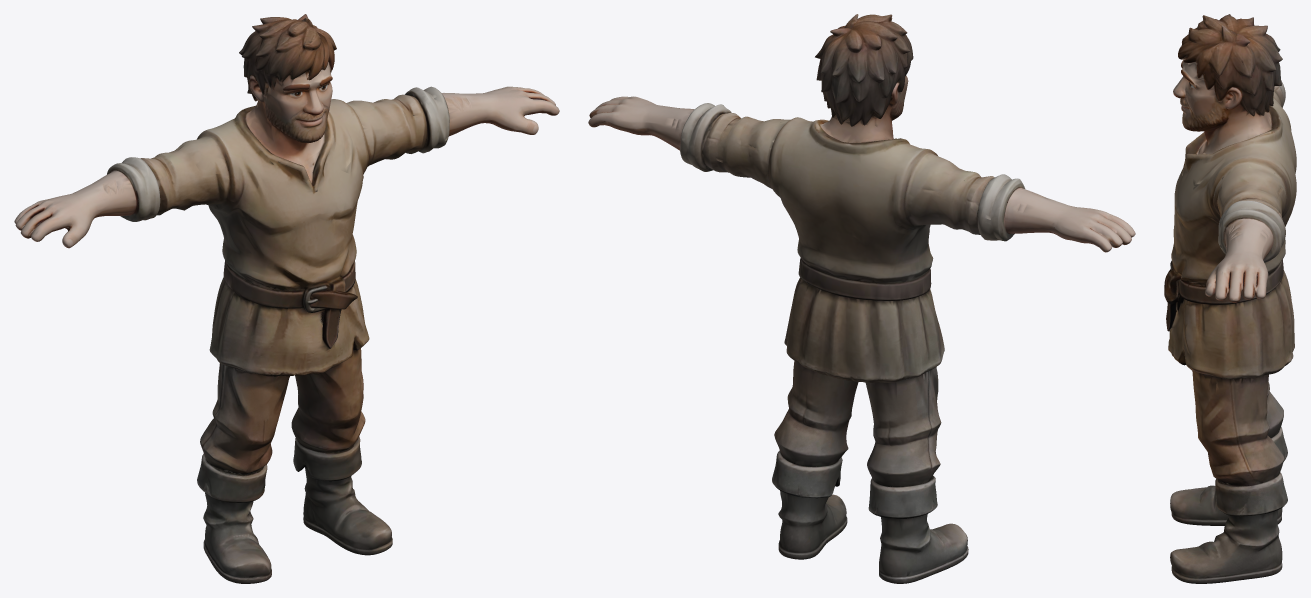
Rendered from male_villager.fbx.
The picture shows the model from 3 angles, left to right: view 1: azimuth 30°, elevation 25°; view 2: azimuth 150°, elevation 25°; view 3: azimuth 270°, elevation 25°; orthographic projection.
Parts seen in each view (by area): view 1: tripo_node_a9926dcd; view 2: tripo_node_a9926dcd; view 3: tripo_node_a9926dcd.
Boxes of the visible parts, x1,y1,x2,y2 form: tripo_node_a9926dcd: (14, 14, 559, 583); tripo_node_a9926dcd: (588, 14, 1135, 583); tripo_node_a9926dcd: (1164, 14, 1296, 583).
Bounding box in the file's own units: 98 × 21.28 × 92.98.
1 material, 1 textured.
